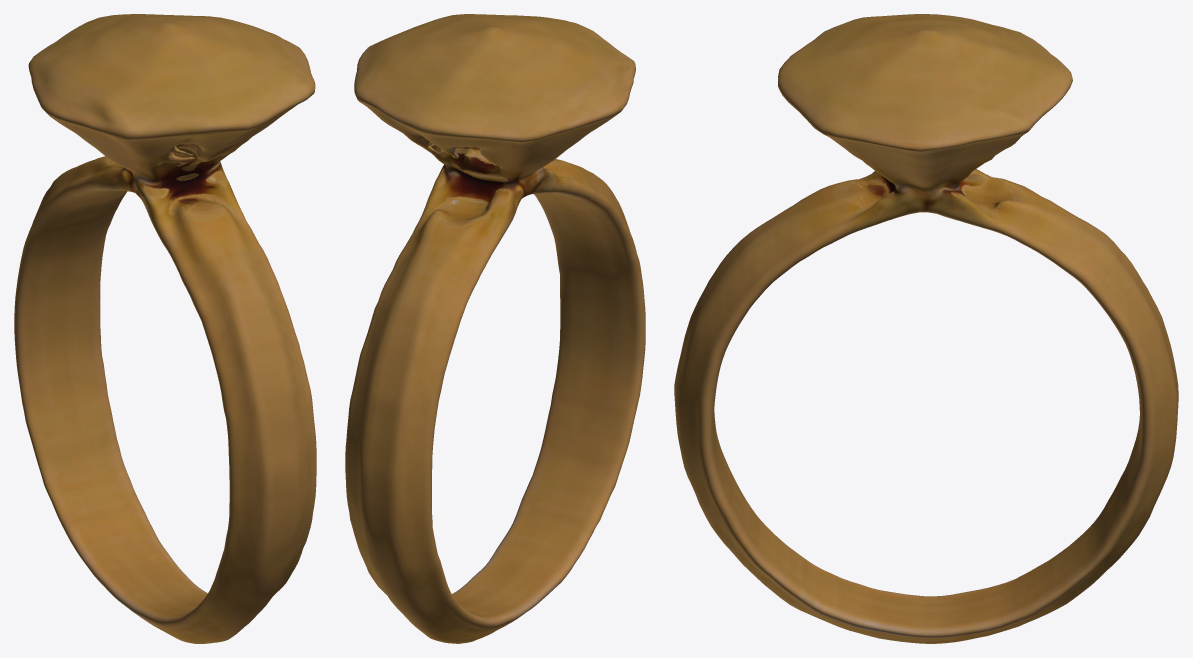
The picture shows the model from 3 angles, left to right: view 1: azimuth 30°, elevation 25°; view 2: azimuth 150°, elevation 25°; view 3: azimuth 270°, elevation 25°; orthographic projection. The views are drawn at different scales.
Parts seen in each view (by area): view 1: mesh; view 2: mesh; view 3: mesh.
Boxes of the visible parts, left/top/right/bottom form: mesh: left=14, top=14, right=316, bottom=643; mesh: left=345, top=14, right=645, bottom=643; mesh: left=674, top=14, right=1178, bottom=643.
Bounding box in the file's own units: 0.4438 × 0.9984 × 0.7416.
Materials: 1 (1 with a texture image).
